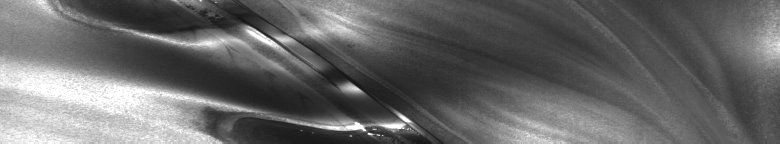ke: (60, 4, 447, 136)
